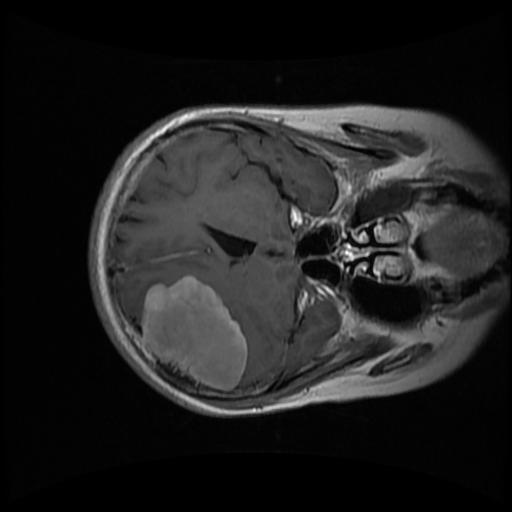meningioma: (141, 275, 247, 391)
